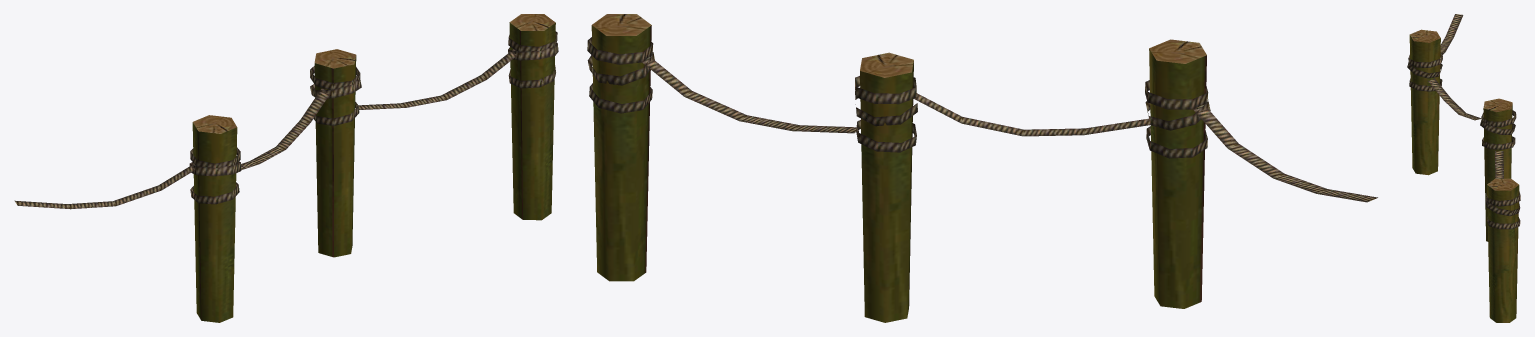
Rendered from Yland3_bj_06 Yland3.FBX.
3 views of the same model, side by side, from view 1: azimuth 30°, elevation 25°; view 2: azimuth 150°, elevation 25°; view 3: azimuth 270°, elevation 25° (orthographic). The views are drawn at different scales.
Visible parts, largest first — view 1: Yland3_bj_06 Yland3; view 2: Yland3_bj_06 Yland3; view 3: Yland3_bj_06 Yland3.
Boxes of the visible parts, box(x1,y1,x2,y2) form: Yland3_bj_06 Yland3: box(14, 14, 558, 322); Yland3_bj_06 Yland3: box(587, 14, 1377, 322); Yland3_bj_06 Yland3: box(1407, 14, 1520, 322).
Bounding box in the file's own units: 75.64 × 27.9 × 18.64.
